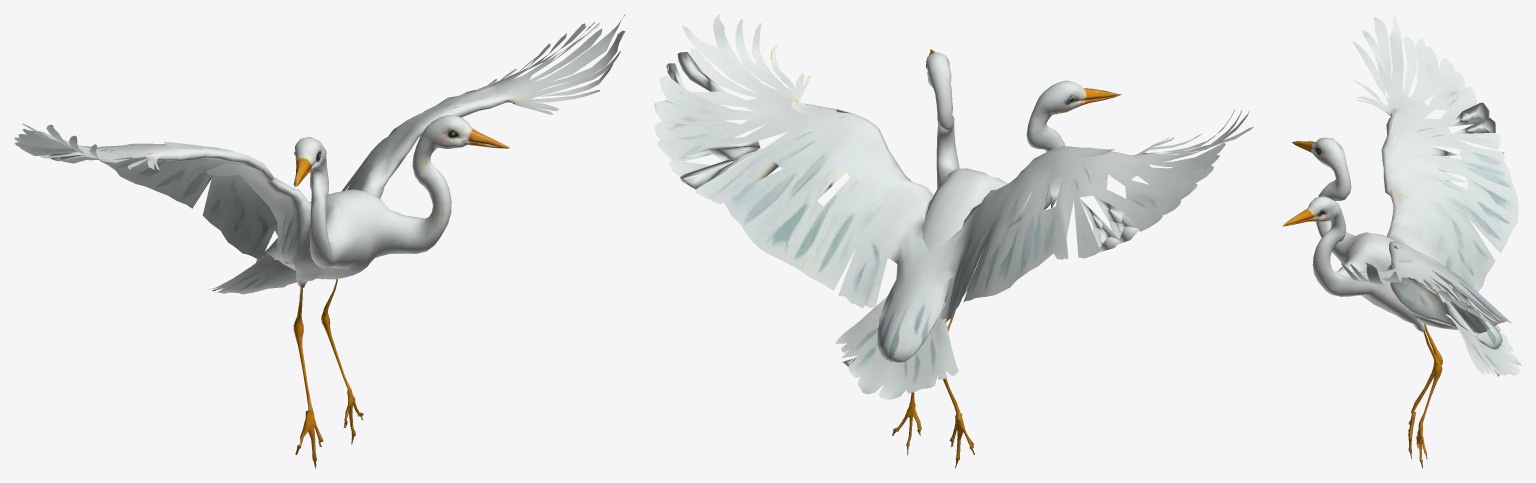
The model's file is heron.glb.
3 views of the same model, side by side, from view 1: azimuth 30°, elevation 25°; view 2: azimuth 150°, elevation 25°; view 3: azimuth 270°, elevation 25° (orthographic). The views are drawn at different scales.
Size of the model in its own units: 0.957 by 0.6543 by 0.4258.
Materials: 1 (1 with a texture image).
